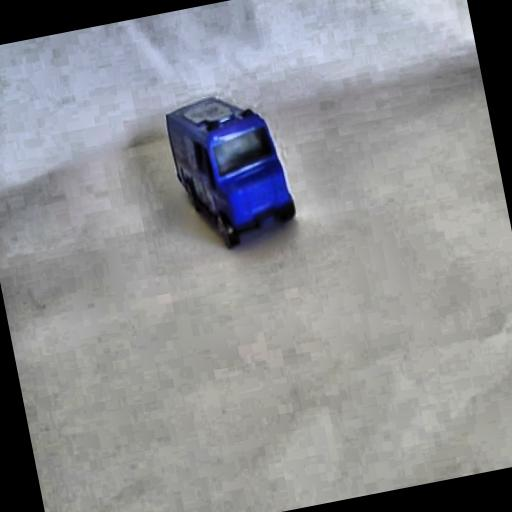police car: (160, 85, 308, 260)
